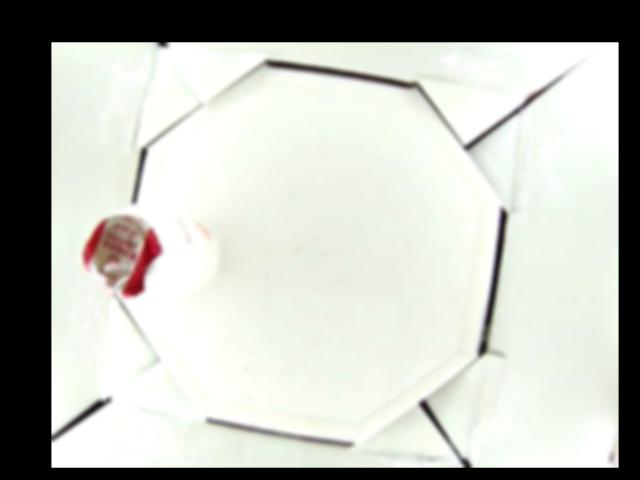Bottle: (81, 203, 220, 300)
